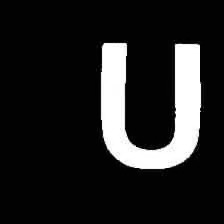LTR_U: (90, 29, 208, 175)
